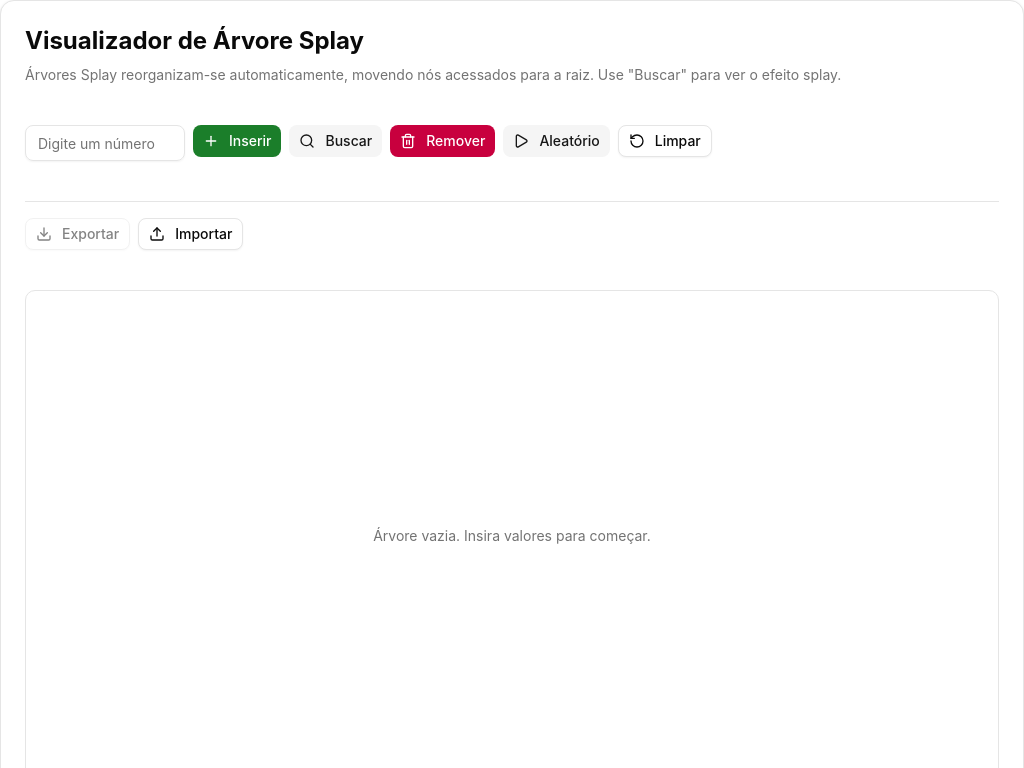
Test case: SplayTreeVisualizer › displays root badge after inserting values
This screenshot has width=1024, height=768.
In the number field with placeholder "Digite um número": (105,143) [25,125,185,161], type "42"
Then press Enter
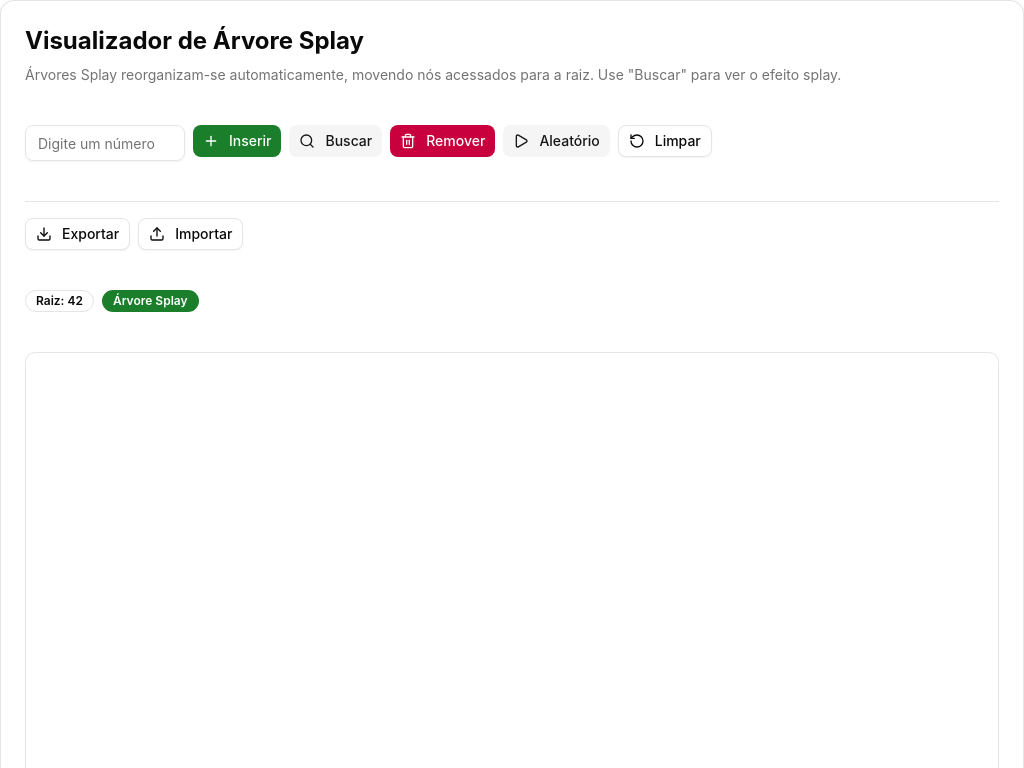
expect the text "Raiz: 42" is shown: met, box [25,290,94,312]
